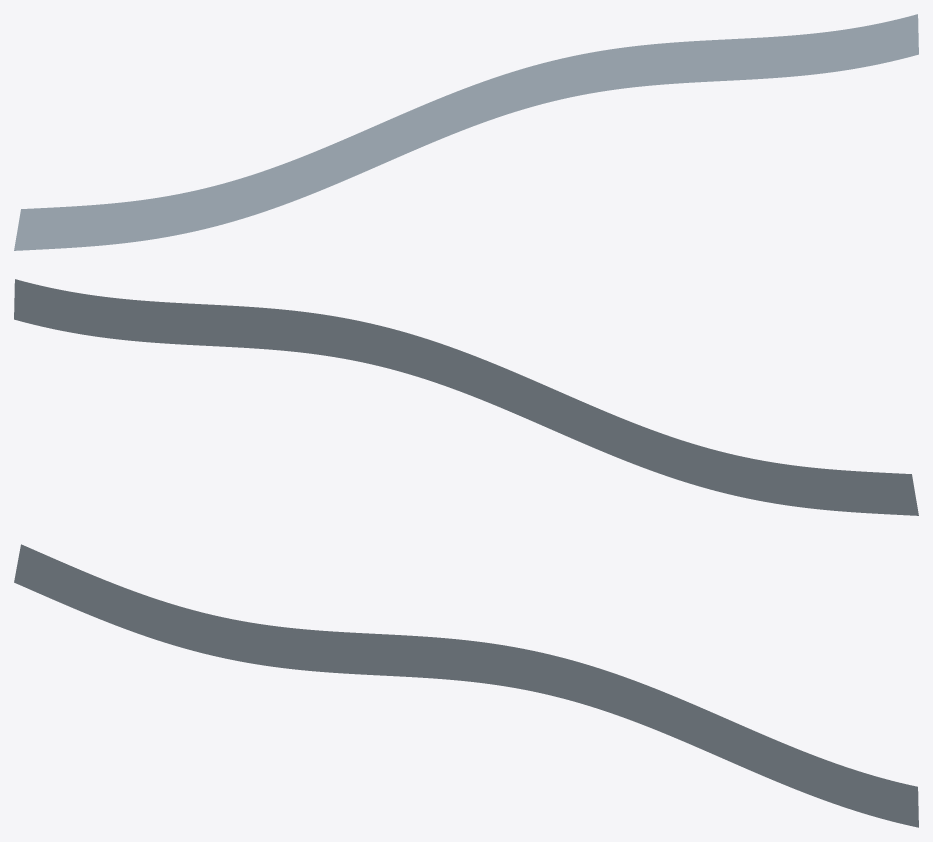
The model's file is Mona_StellarisPhantasm_WithStateHandoff_StarryWaterWave3.fbx.
The picture shows the model from 3 angles, top to bottom: view 1: azimuth 30°, elevation 25°; view 2: azimuth 150°, elevation 25°; view 3: azimuth 330°, elevation 25°; orthographic projection.
Visible parts, largest first — view 1: PART_ThinRollingStarryWater_3; view 2: PART_ThinRollingStarryWater_3; view 3: PART_ThinRollingStarryWater_3.
Boxes of the visible parts, <box> form: PART_ThinRollingStarryWater_3: <box>14,14,918,250</box>; PART_ThinRollingStarryWater_3: <box>14,279,918,515</box>; PART_ThinRollingStarryWater_3: <box>14,544,918,827</box>.
Size of the model in its own units: 841 by 74.2 by 1.21e-05.
